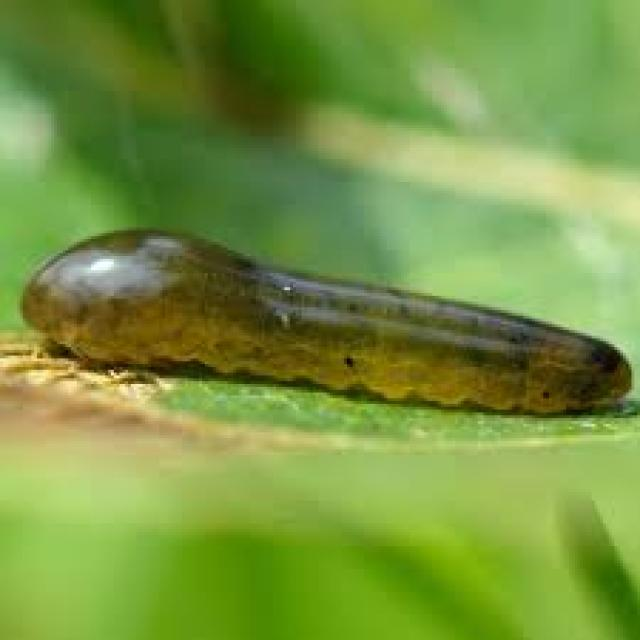Saw Fly: (15, 222, 635, 430)
